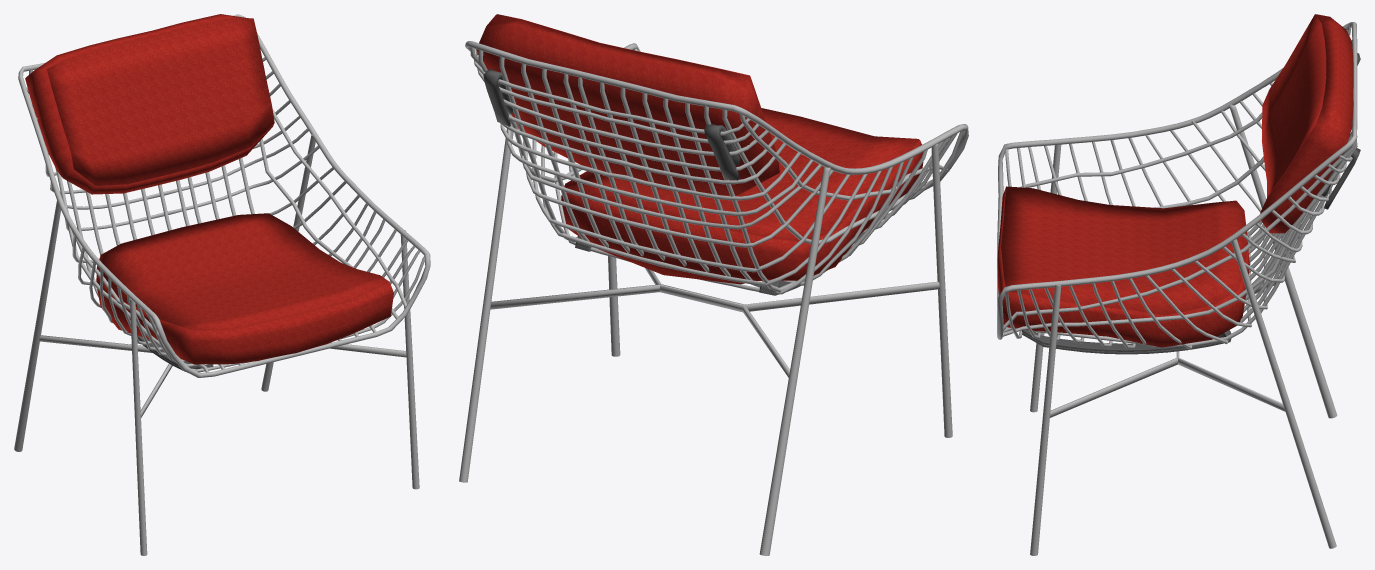
File: Wallace.glb
3 renders of one model, left to right at view 1: azimuth 30°, elevation 25°; view 2: azimuth 150°, elevation 25°; view 3: azimuth 270°, elevation 25°, orthographic. The views are drawn at different scales.
Visible parts, largest first — view 1: Wallace; view 2: Wallace; view 3: Wallace.
Boxes of the visible parts, left/top/right/bottom form: Wallace: left=14, top=14, right=430, bottom=555; Wallace: left=459, top=14, right=968, bottom=555; Wallace: left=997, top=14, right=1360, bottom=555.
Bounding box in the file's own units: 24.42 × 32.38 × 25.54.
Materials: 3 (1 with a texture image).
